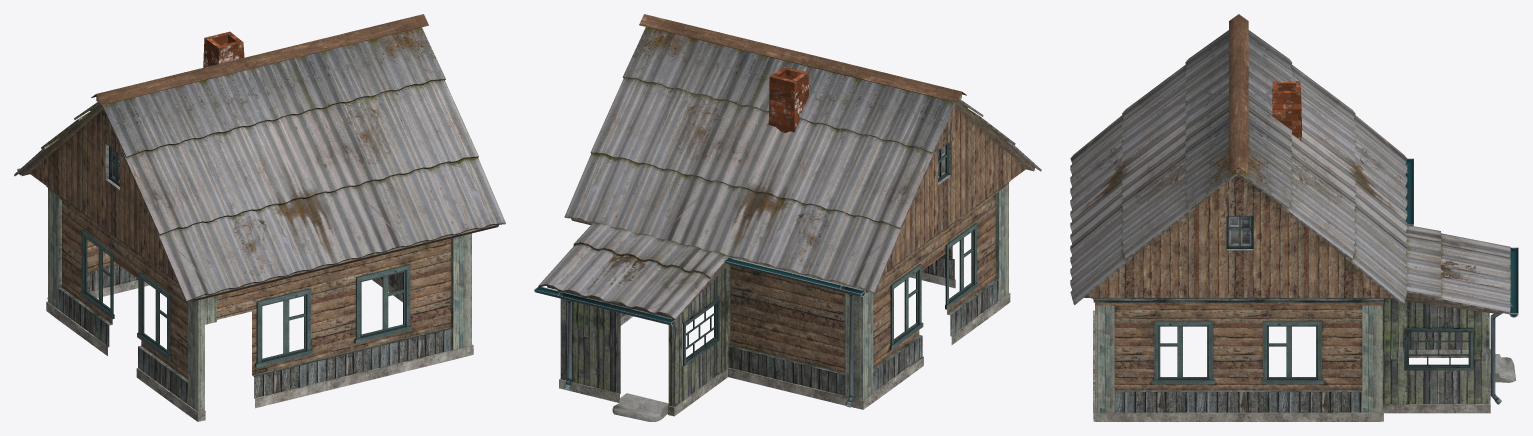
Rendered from house.glb.
3 views of the same model, side by side, from view 1: azimuth 30°, elevation 25°; view 2: azimuth 150°, elevation 25°; view 3: azimuth 270°, elevation 25° (orthographic). The views are drawn at different scales.
Visible parts, largest first — view 1: Roof, Walls, Windows; view 2: Roof, Walls, Windows; view 3: Roof, Walls, Windows.
Boxes of the visible parts, x1,y1,x2,y2 form: Roof: [14, 14, 505, 301]; Walls: [29, 95, 473, 421]; Windows: [80, 146, 411, 367]; Roof: [534, 14, 1041, 407]; Walls: [559, 93, 1026, 416]; Windows: [612, 143, 978, 421]; Roof: [1070, 14, 1518, 404]; Walls: [1084, 168, 1490, 421]; Windows: [1152, 216, 1515, 384].
Size of the model in its own units: 9.3 by 7.56 by 11.51.
3 materials, 3 textured.
